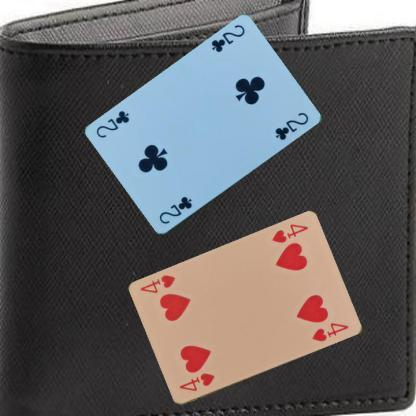2c: (156, 193, 193, 226), (208, 22, 246, 54)
4h: (268, 221, 310, 245), (176, 370, 216, 393)
